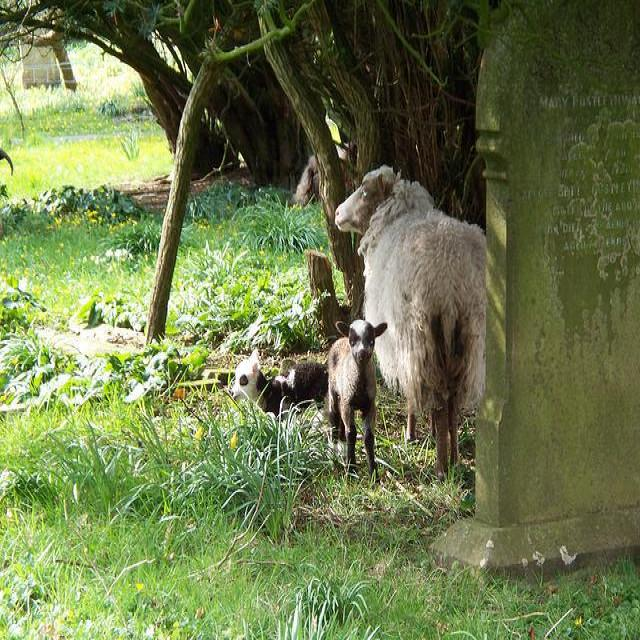Sheep: (334, 160, 485, 483), (329, 320, 383, 481), (232, 346, 329, 426)
